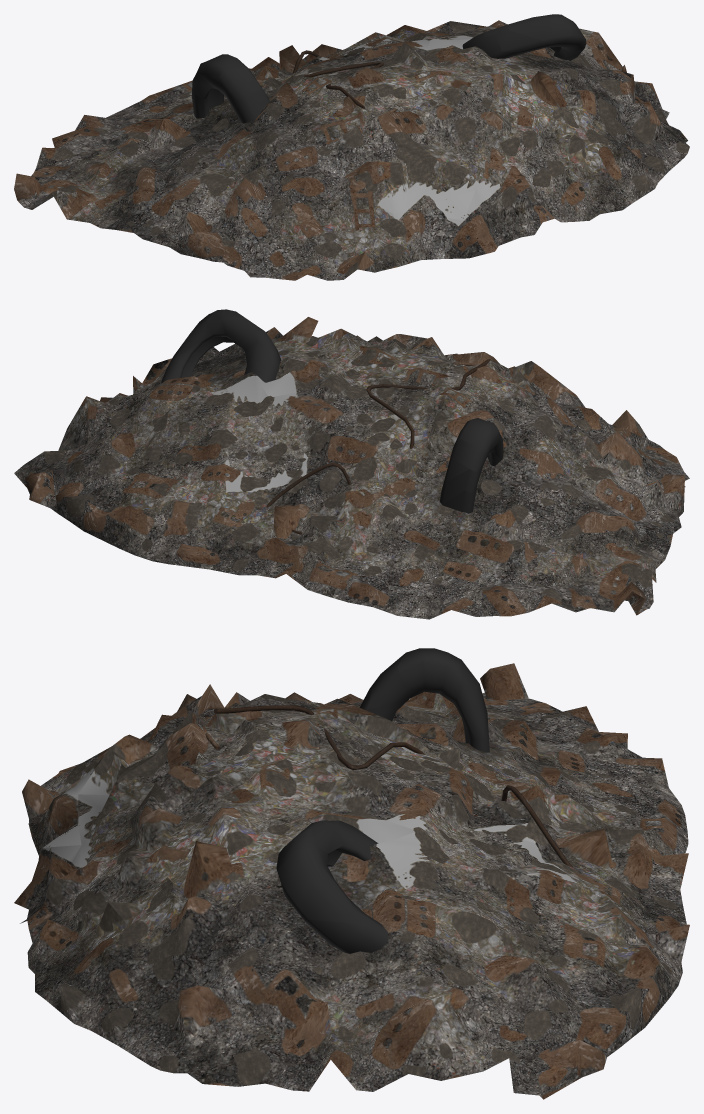
Rendered from Dump2.fbx.
The picture shows the model from 3 angles, top to bottom: view 1: azimuth 30°, elevation 25°; view 2: azimuth 150°, elevation 25°; view 3: azimuth 270°, elevation 25°; orthographic projection. The views are drawn at different scales.
Visible parts, largest first — view 1: polySurface12; view 2: polySurface12; view 3: polySurface12.
Part boxes in pixels (x1,y1,x2,y2): polySurface12: (14, 14, 689, 280); polySurface12: (14, 309, 689, 619); polySurface12: (14, 648, 689, 1099).
Size of the model in its own units: 76.98 by 16.59 by 54.15.
